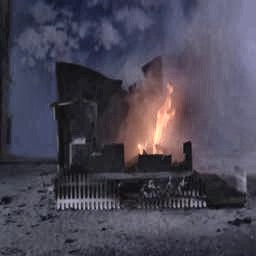fire: (133, 76, 187, 166)
smoke: (154, 0, 256, 97)
